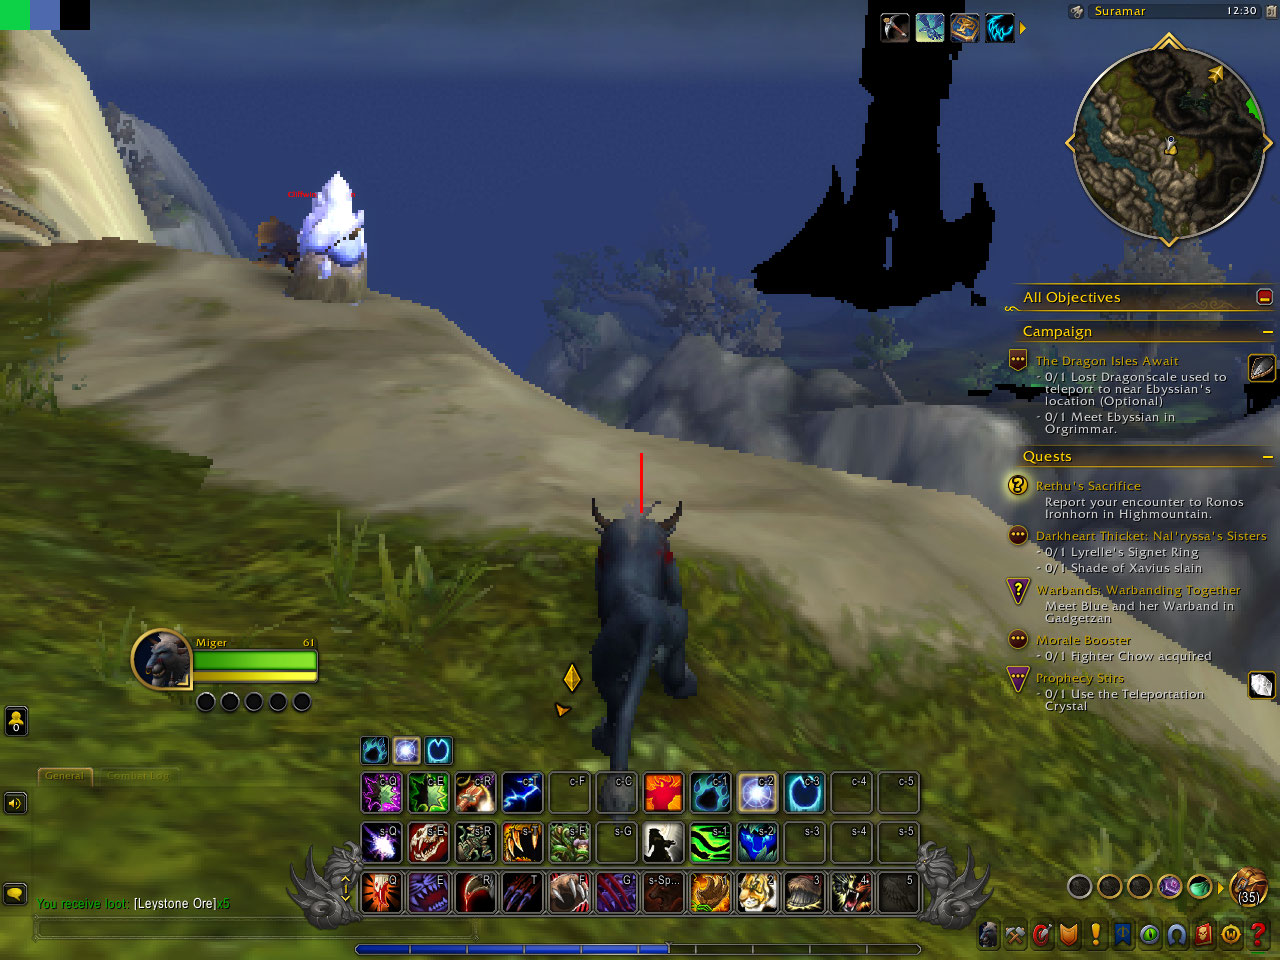ore: (286, 172, 366, 304)
